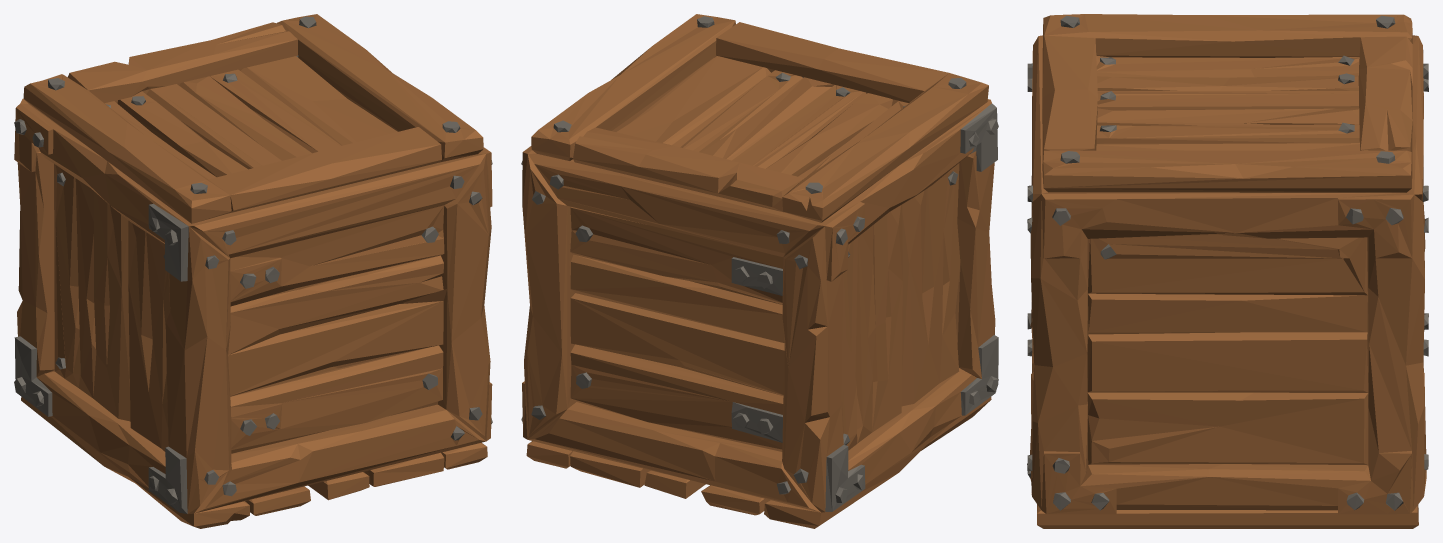
Rendered from WoodenCrate.fbx.
3 views of the same model, side by side, from view 1: azimuth 30°, elevation 25°; view 2: azimuth 150°, elevation 25°; view 3: azimuth 270°, elevation 25° (orthographic). The views are drawn at different scales.
Parts seen in each view (by area): view 1: WoodenCrate_LOD0; view 2: WoodenCrate_LOD0; view 3: WoodenCrate_LOD0.
Part boxes in pixels (x1,y1,x2,y2): WoodenCrate_LOD0: [14, 14, 492, 528]; WoodenCrate_LOD0: [521, 14, 998, 528]; WoodenCrate_LOD0: [1027, 14, 1428, 528].
Size of what is drawn, in the model's own units: 0.5991 by 0.5911 by 0.6.
